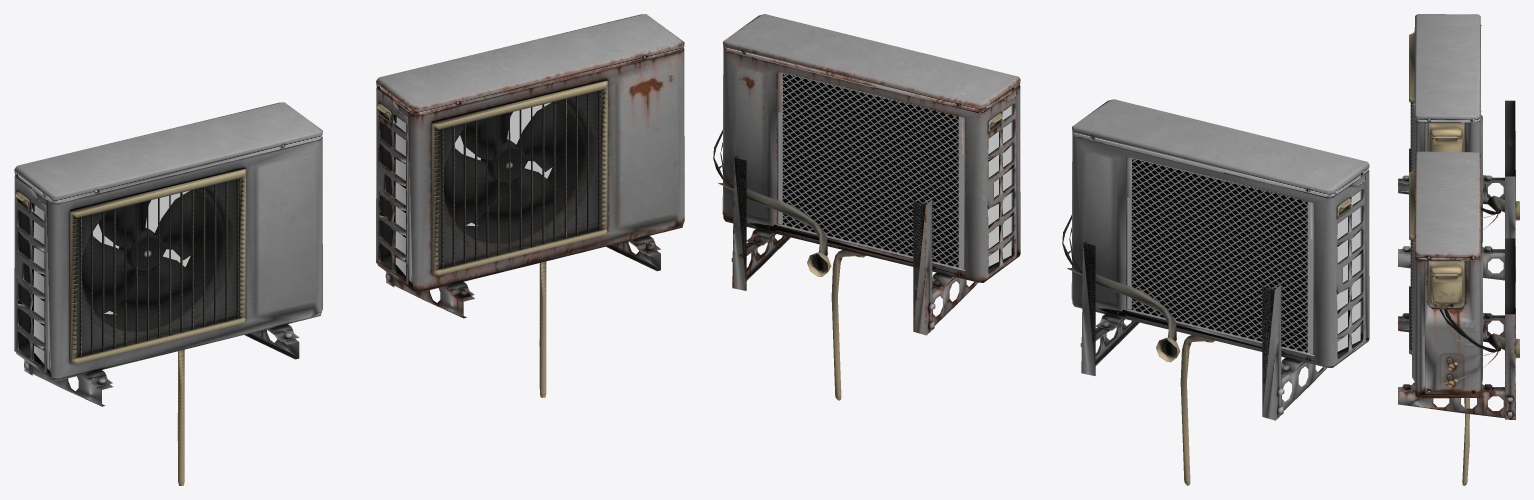
The model's file is exterior_aircon_unit.glb.
The picture shows the model from 3 angles, left to right: view 1: azimuth 30°, elevation 25°; view 2: azimuth 150°, elevation 25°; view 3: azimuth 270°, elevation 25°; orthographic projection. The views are drawn at different scales.
Parts seen in each view (by area): view 1: exterior_aircon_unit_rusted, exterior_aircon_unit; view 2: exterior_aircon_unit_rusted, exterior_aircon_unit; view 3: exterior_aircon_unit_rusted, exterior_aircon_unit.
Part boxes in pixels (box(x1,y1,x2,y2)): exterior_aircon_unit_rusted: box(376, 14, 684, 397); exterior_aircon_unit: box(14, 102, 322, 485); exterior_aircon_unit_rusted: box(713, 14, 1020, 400); exterior_aircon_unit: box(1062, 99, 1369, 485); exterior_aircon_unit_rusted: box(1398, 151, 1519, 485); exterior_aircon_unit: box(1398, 14, 1519, 281).
Size of the model in its own units: 1.8 by 0.9276 by 0.3742.
Materials: 4 (4 with a texture image).
